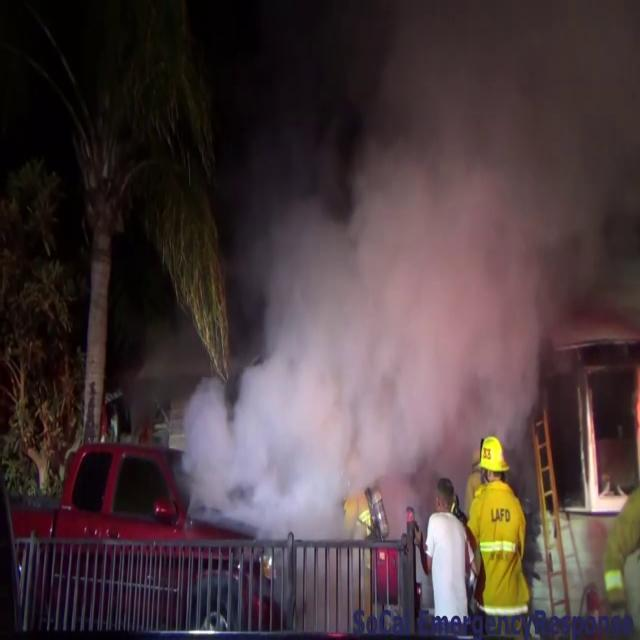Smoke: (184, 1, 640, 524)
